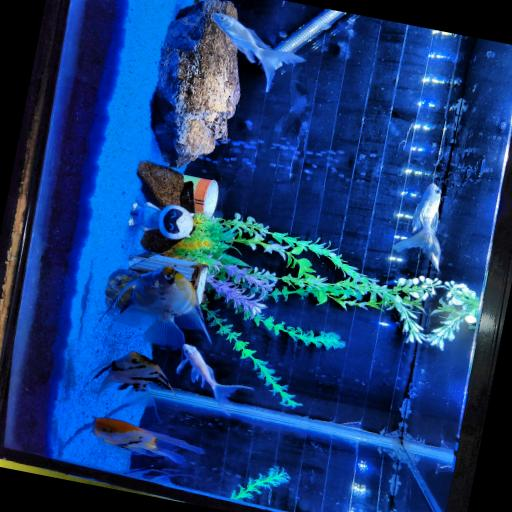Fish: (107, 265, 210, 346), (212, 12, 303, 90), (176, 343, 251, 415), (93, 417, 202, 462), (94, 351, 173, 406), (392, 182, 440, 270)
